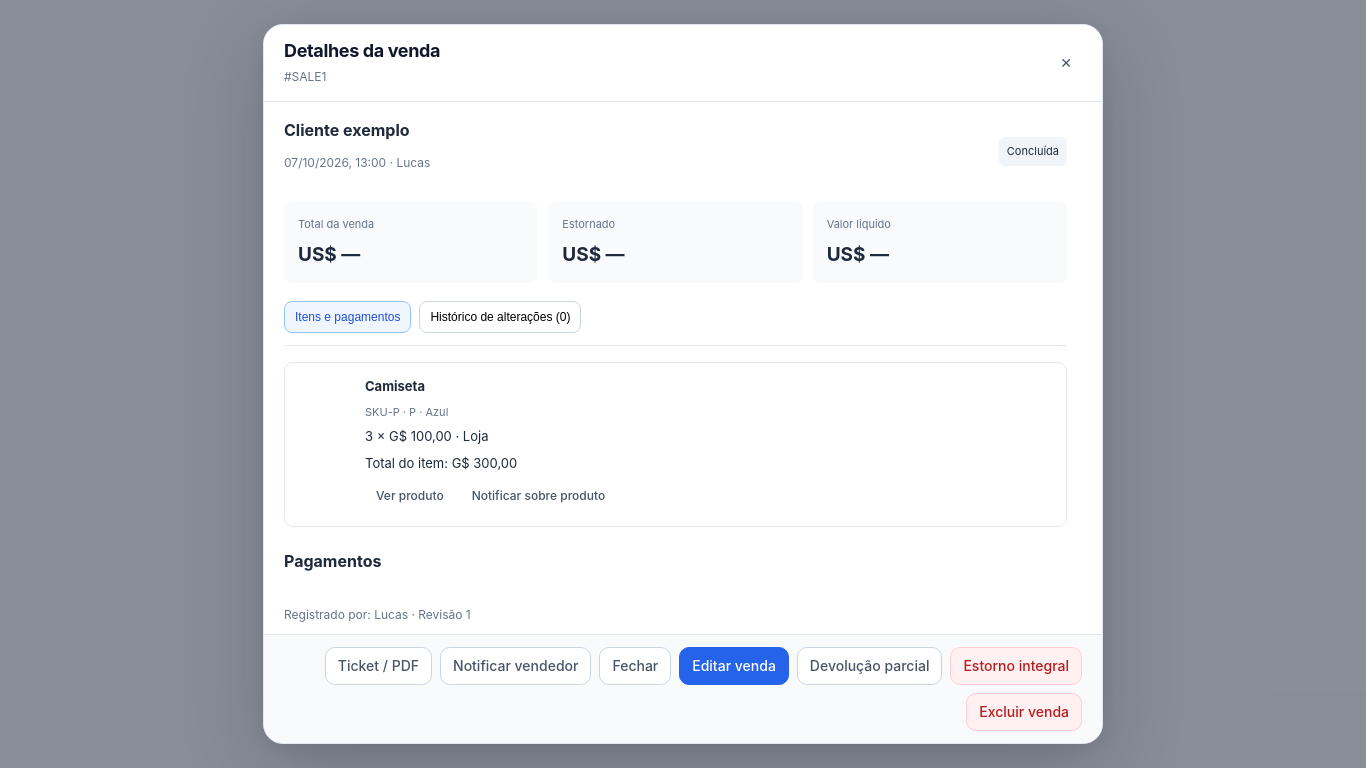
Sale management › requires a new preview after a stale revision conflict
The image size is (1366, 768).
Click the button "Estorno integral" at x=1016, y=666, box [950,647,1082,685]
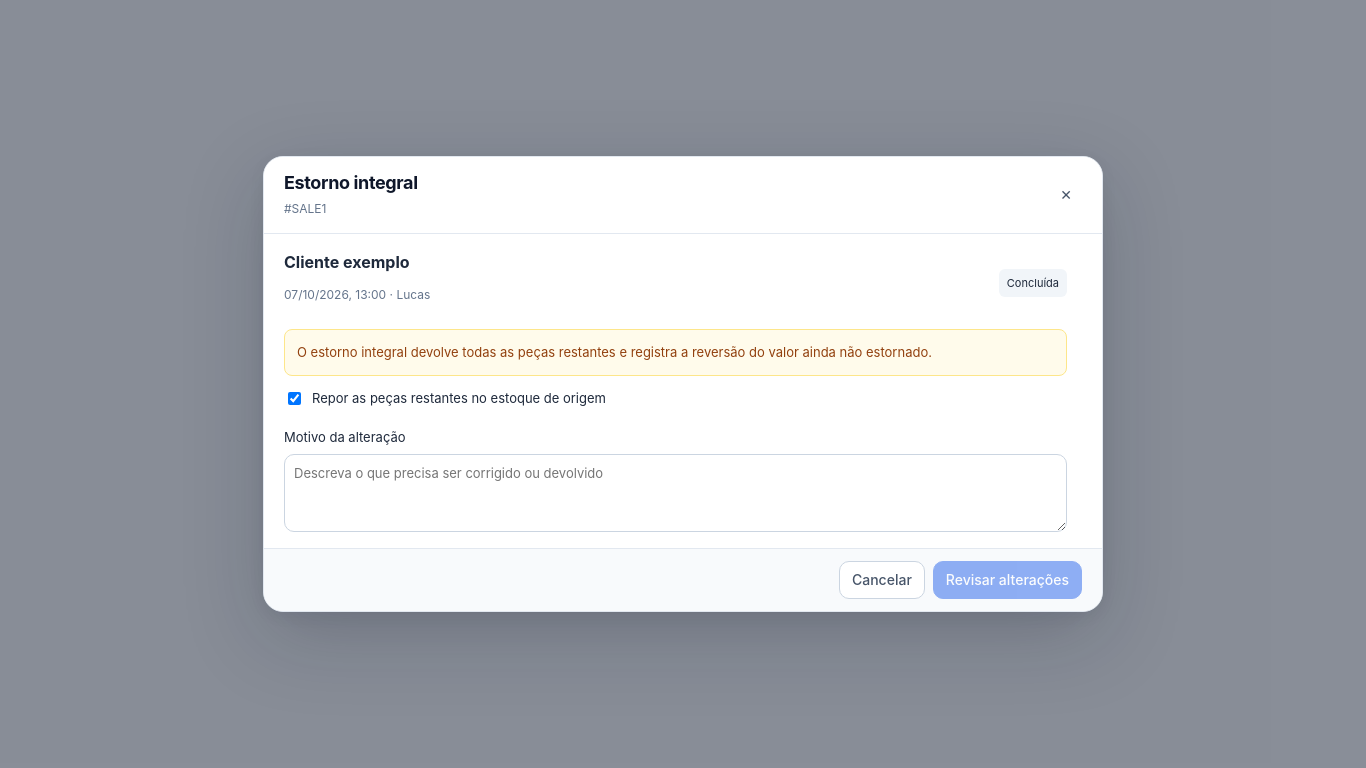
Type "Conferência de teste" into the text box labelled "Motivo da alteração" at x=676, y=493, box [284,454,1067,532]
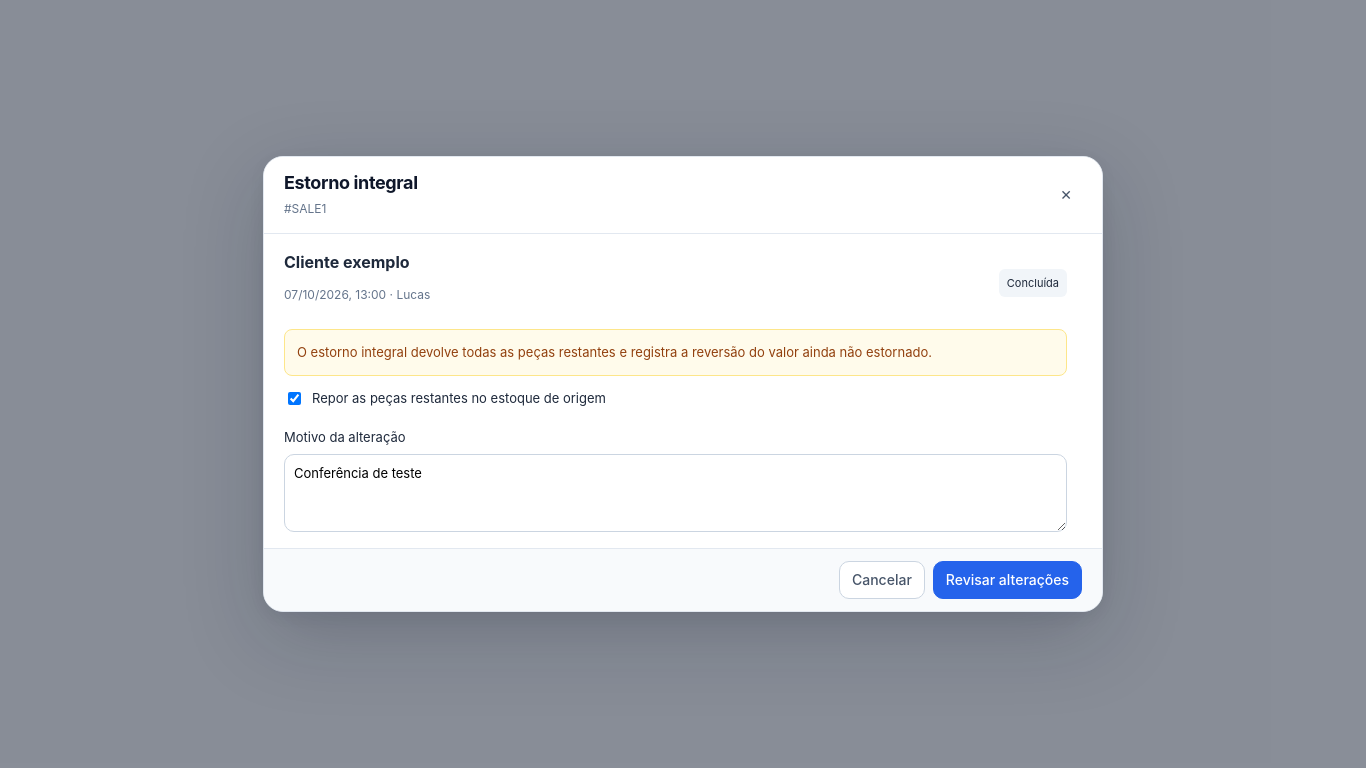
Now the button "Revisar alterações" is shown
Click the button "Revisar alterações" at x=1007, y=580, box [933,561,1082,599]
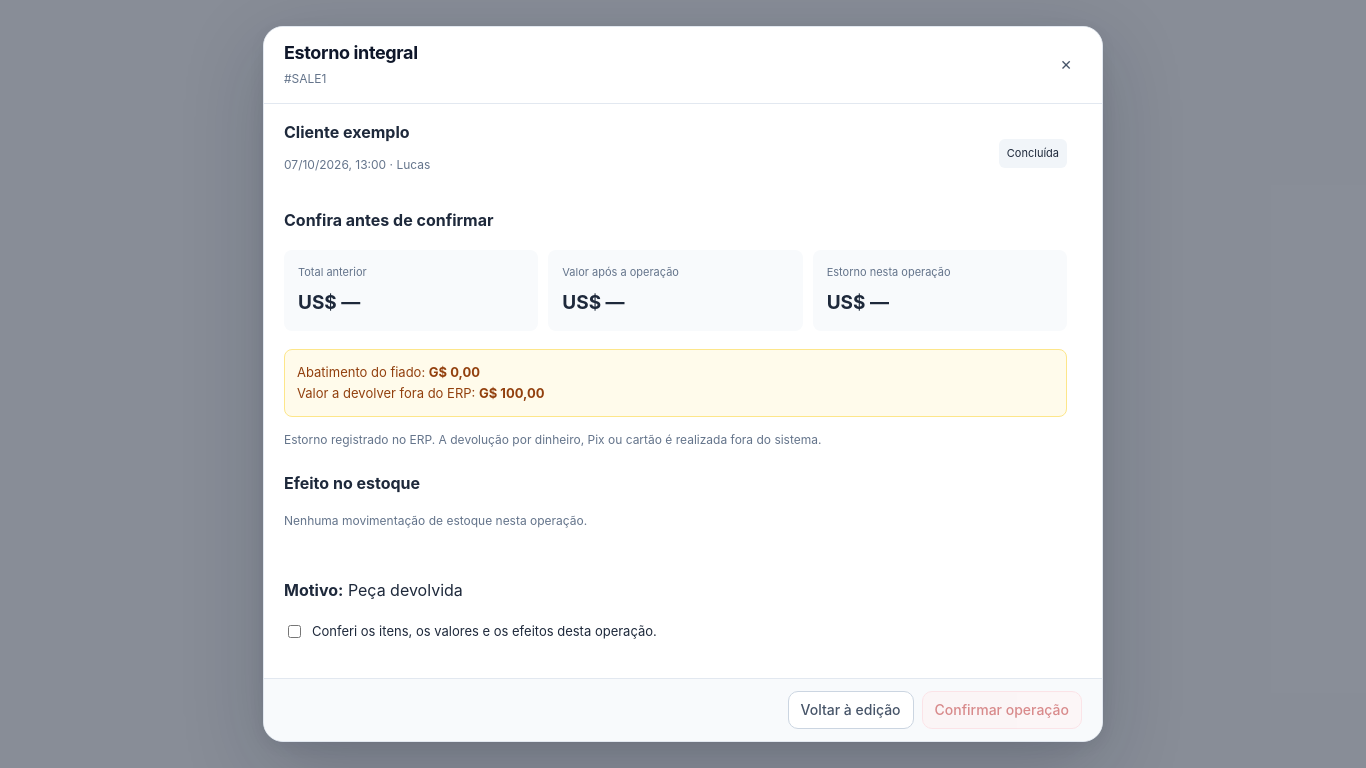
Click the checkbox labelled "Conferi os itens, os valores e os efeitos desta operação." at x=294, y=632, box [288,625,301,638]
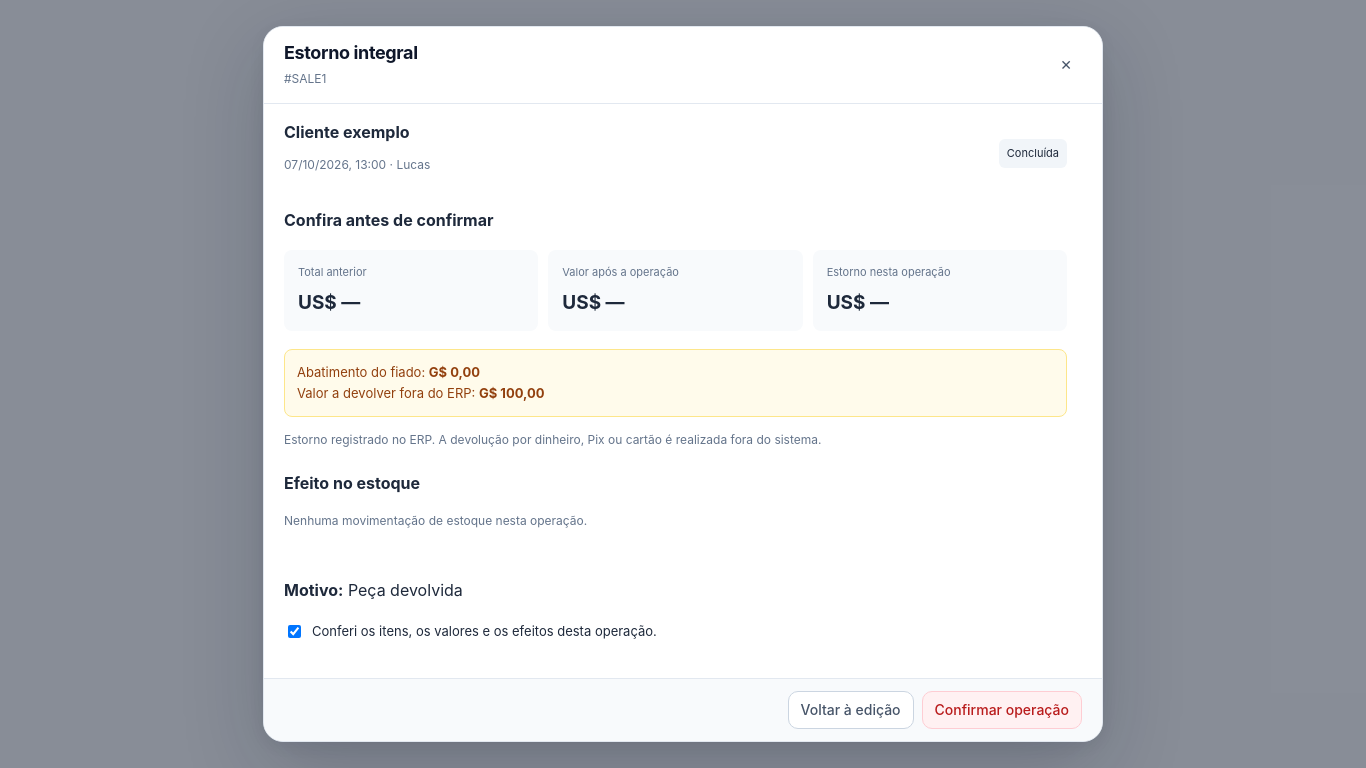
Now the button "Confirmar operação" is shown
Click the button "Confirmar operação" at x=1002, y=710, box [922,691,1082,729]
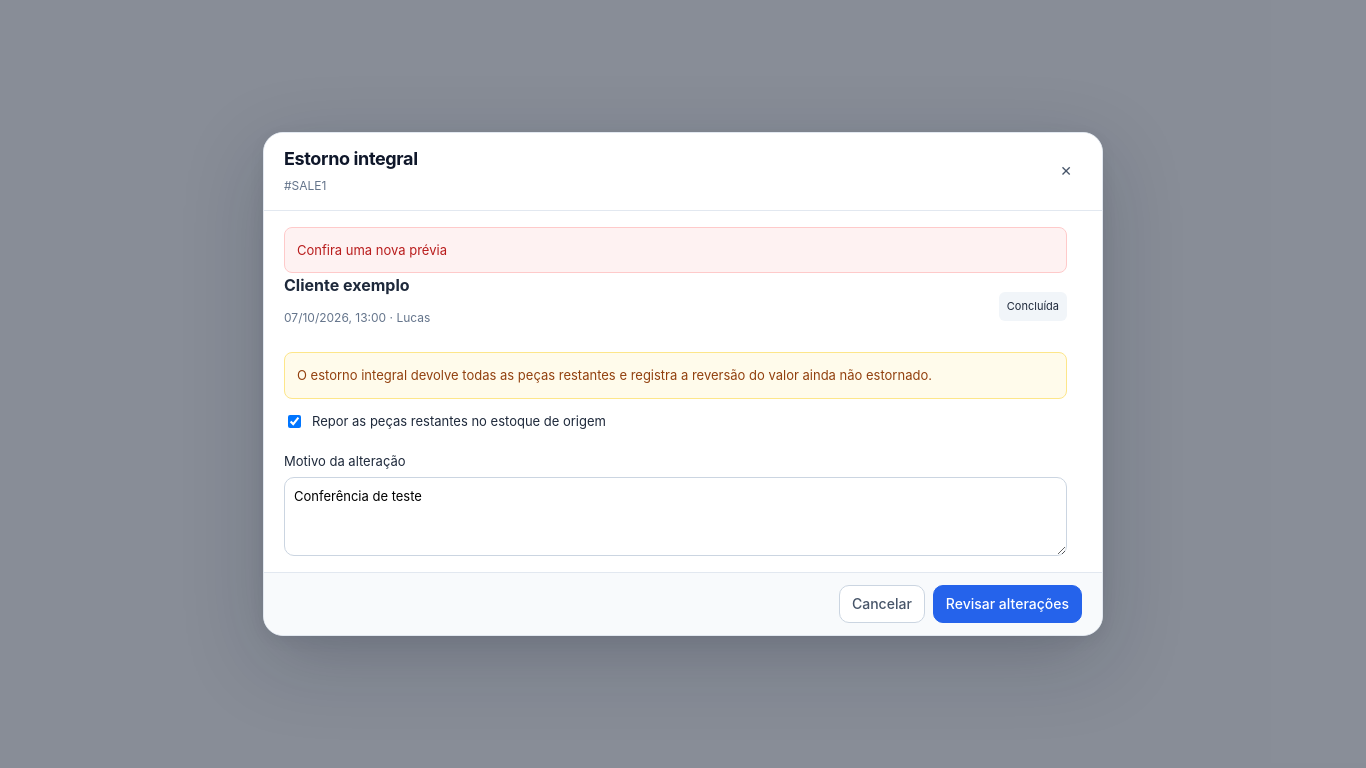
Now the button "Revisar alterações" is shown, box [933,585,1082,623]
Now the message "Confira uma nova prévia" is shown, box [284,227,1067,273]
